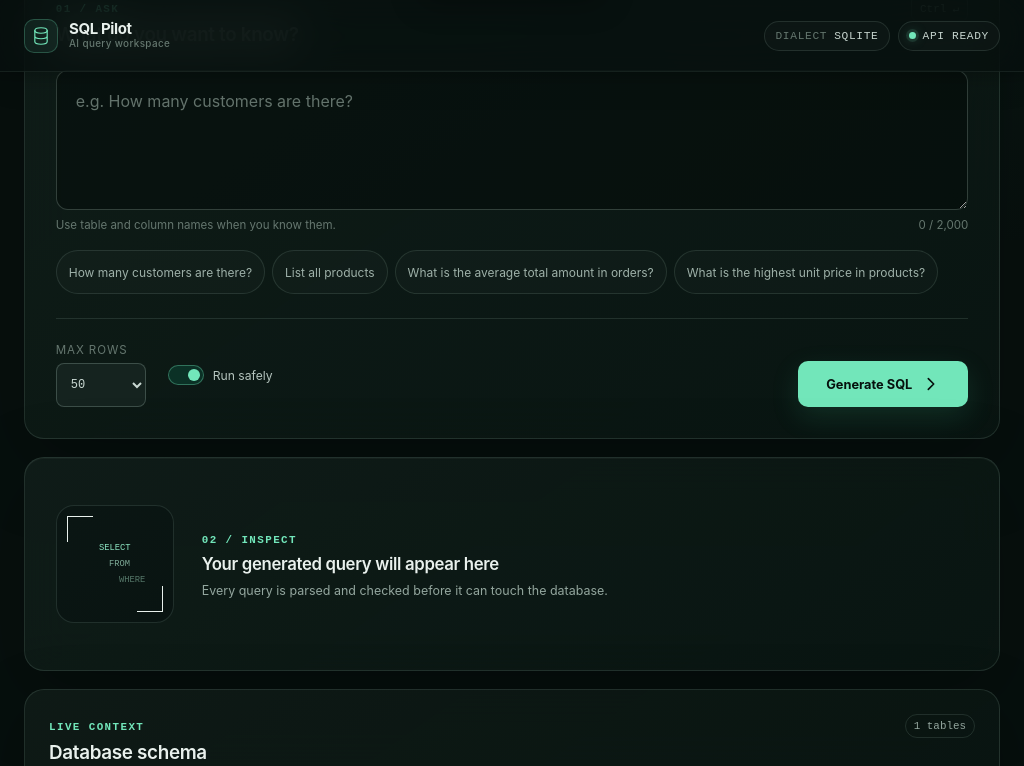
Test: SQL Pilot application › validates an empty question without sending a request
(page scrolled)
Click the button "Generate SQL": (883, 384) left=798, top=361, right=968, bottom=407
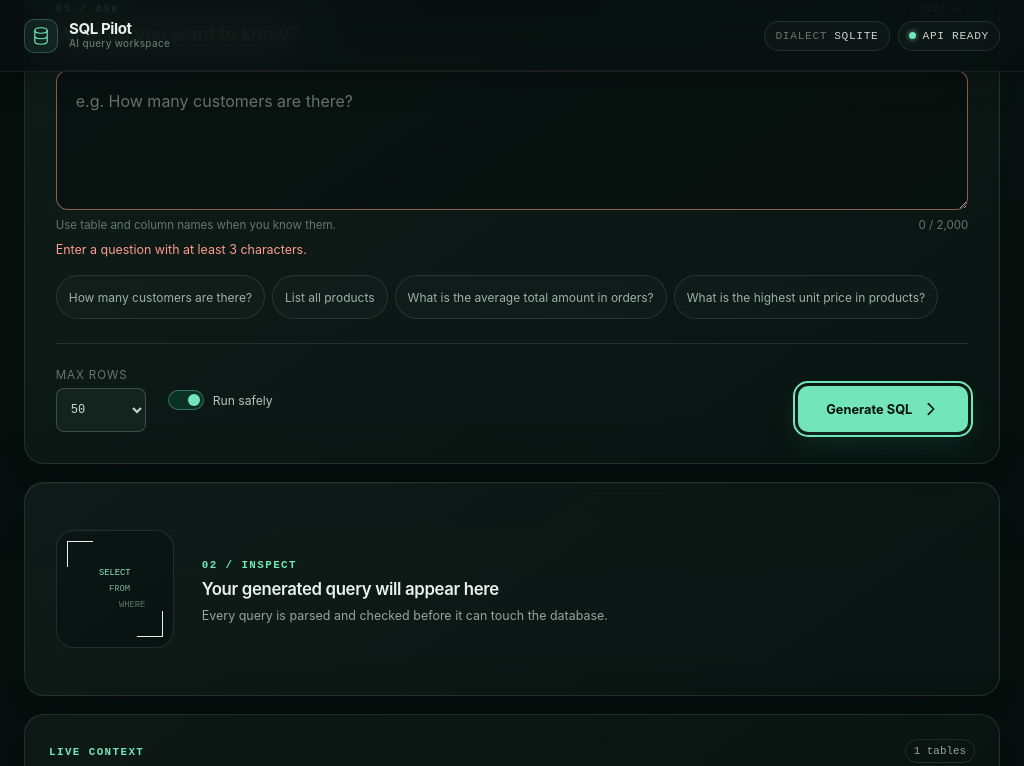
expect the text "Enter a question with at least 3 characters." is shown: met, box left=56, top=242, right=307, bottom=257
